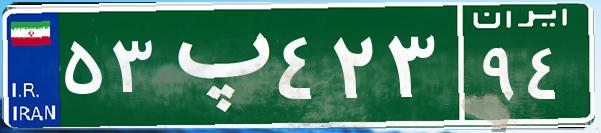2: (330, 28, 385, 110)
3: (385, 28, 445, 110), (110, 28, 158, 105)
4: (273, 28, 330, 110), (525, 38, 570, 115)
5: (57, 26, 110, 107)
9: (475, 38, 525, 113)
پ: (158, 15, 273, 115)
